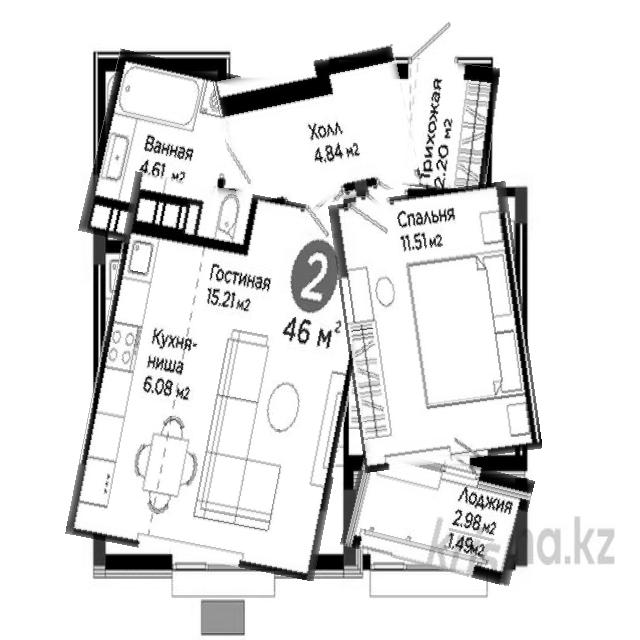balcony: (346, 449, 530, 576)
bathroom: (88, 54, 231, 253)
hallway: (220, 53, 416, 213), (406, 61, 496, 193)
living_room: (337, 187, 534, 468)
studio: (66, 194, 383, 581)
